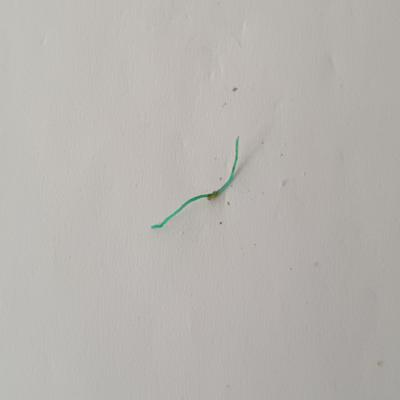thread: (147, 134, 247, 241)
